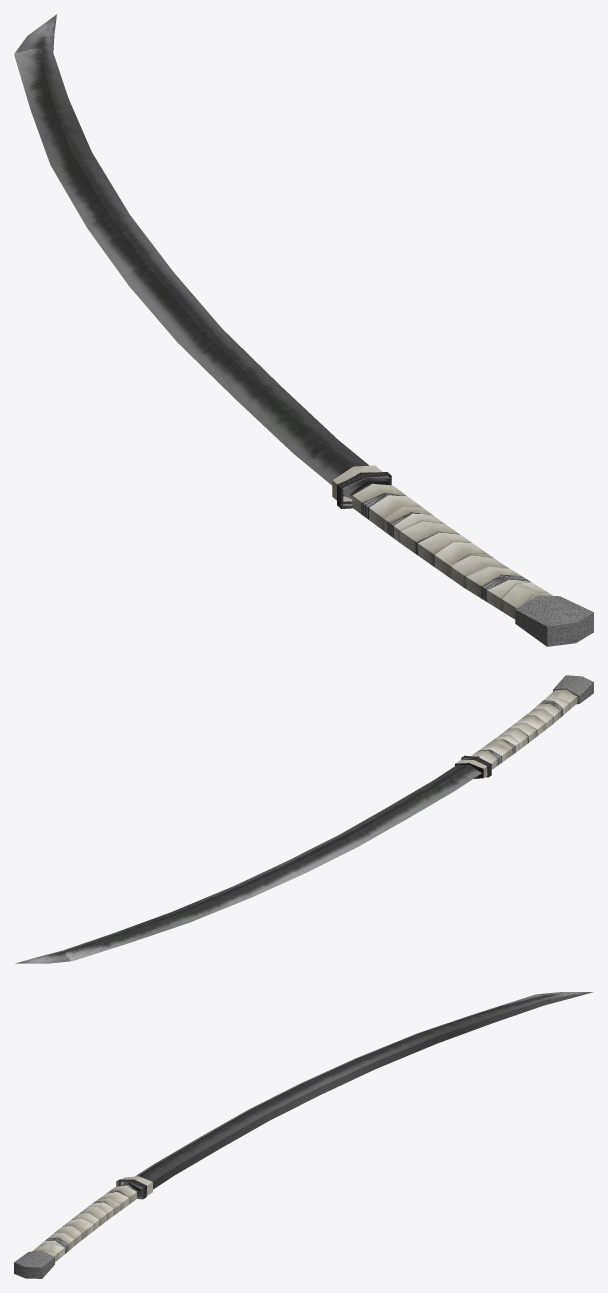
Rendered from sword_boro_boro.glb.
3 views of the same model, one above another, from view 1: azimuth 30°, elevation 25°; view 2: azimuth 150°, elevation 25°; view 3: azimuth 330°, elevation 25° (orthographic). The views are drawn at different scales.
Size of the model in its own units: 0.3396 by 0.035 by 1.59.
Materials: 1 (1 with a texture image).
